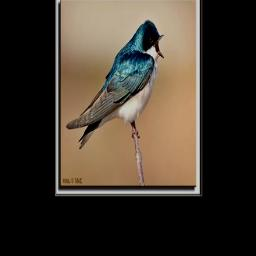Swallow: (65, 17, 167, 151)
